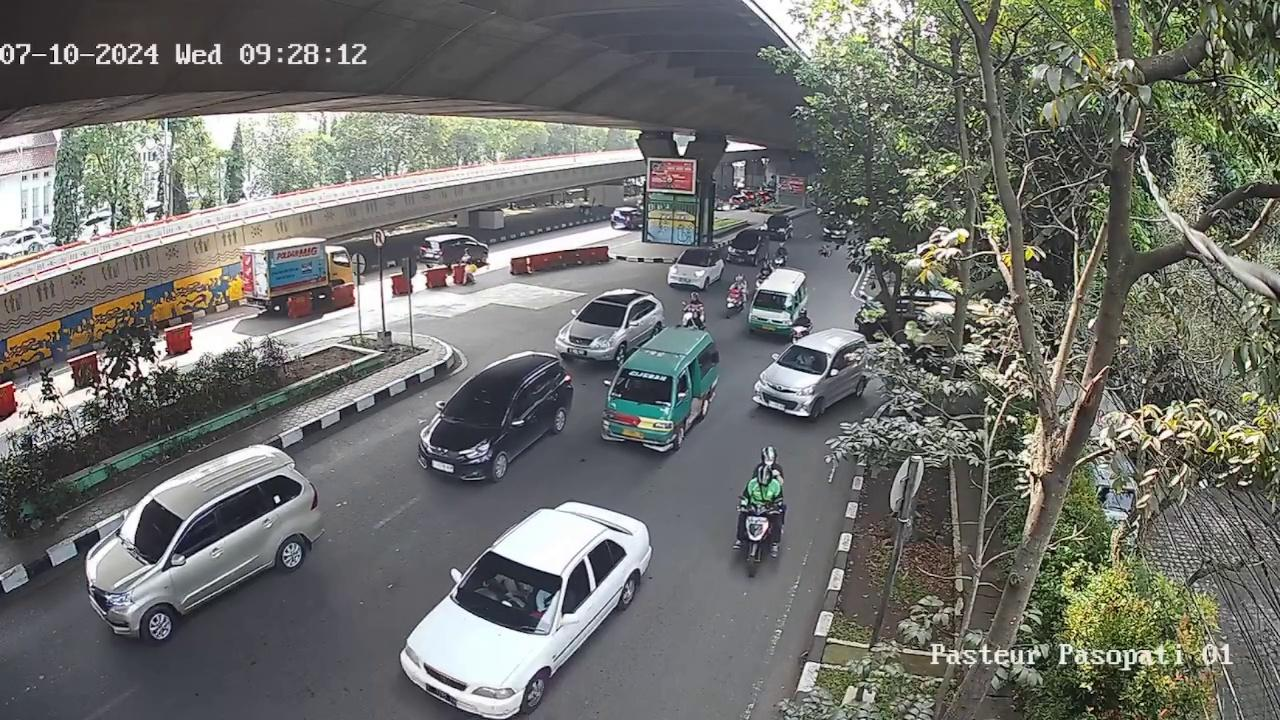pakai: (492, 566, 529, 604), (533, 586, 559, 613)
windshield: (456, 545, 562, 633), (106, 497, 188, 564), (607, 363, 683, 406), (442, 387, 509, 429), (573, 297, 632, 326), (779, 345, 836, 375), (755, 290, 795, 309), (679, 251, 709, 267)
